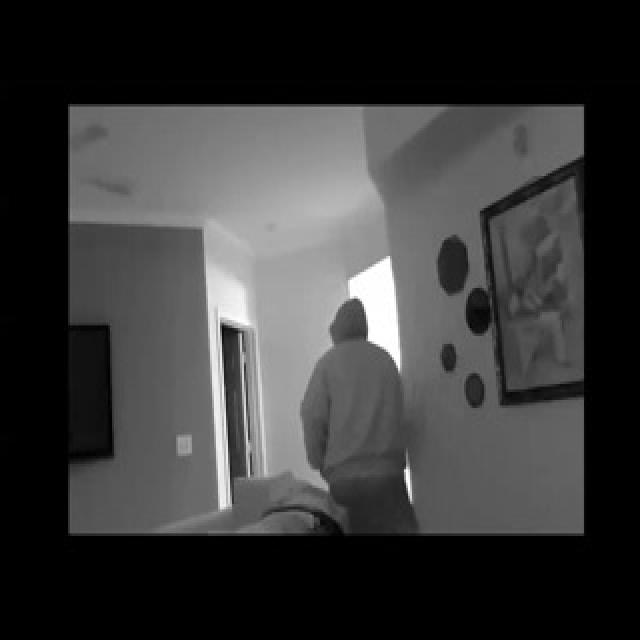thief: (318, 297, 386, 383)
